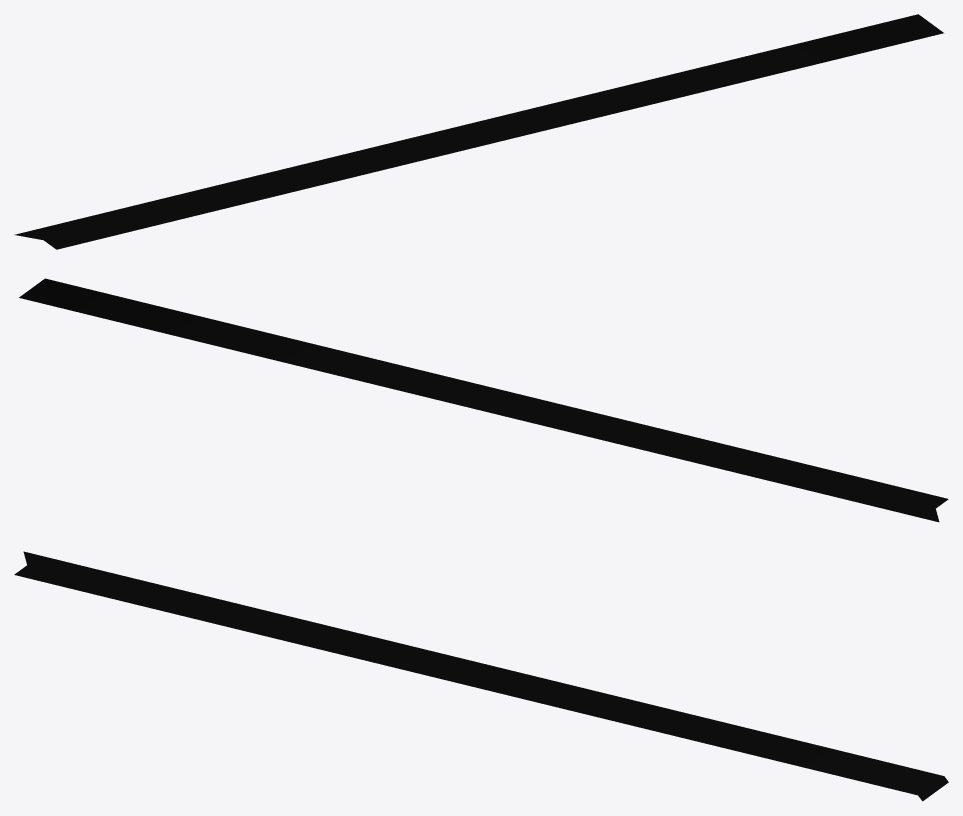
3 renders of one model, top to bottom at view 1: azimuth 30°, elevation 25°; view 2: azimuth 150°, elevation 25°; view 3: azimuth 330°, elevation 25°, orthographic.
Parts seen in each view (by area): view 1: Joint_0_Object_0; view 2: Joint_0_Object_0; view 3: Joint_0_Object_0.
Boxes of the visible parts, left/top/right/bottom form: Joint_0_Object_0: left=14, top=14, right=943, bottom=249; Joint_0_Object_0: left=19, top=278, right=948, bottom=522; Joint_0_Object_0: left=14, top=551, right=948, bottom=801.
Size of the model in its own units: 3851 by 19.95 by 190.
1 material, 1 textured.
